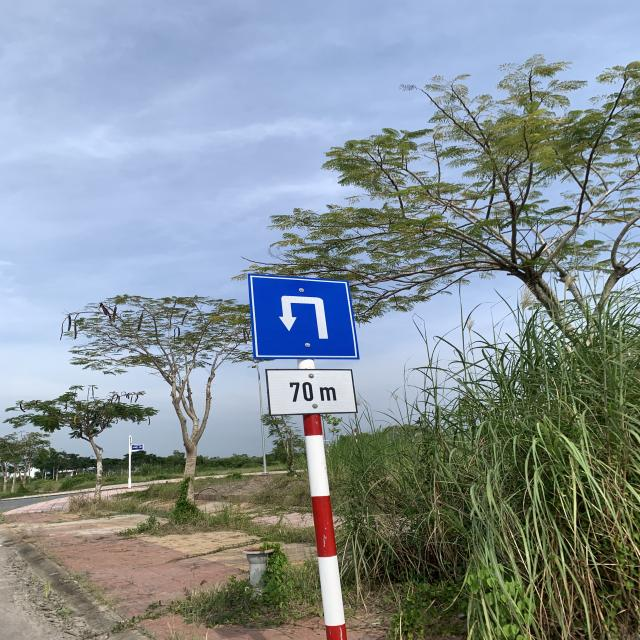Den_Giao_Thong: (250, 274, 362, 360)
